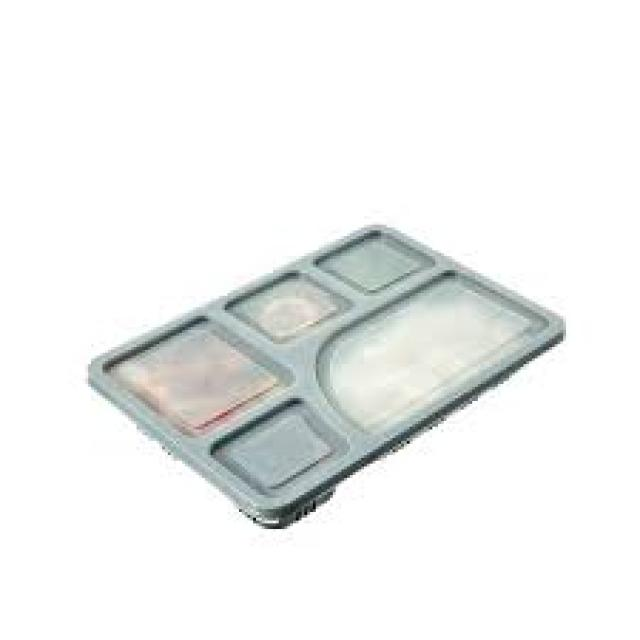disposable: (84, 200, 586, 543)
